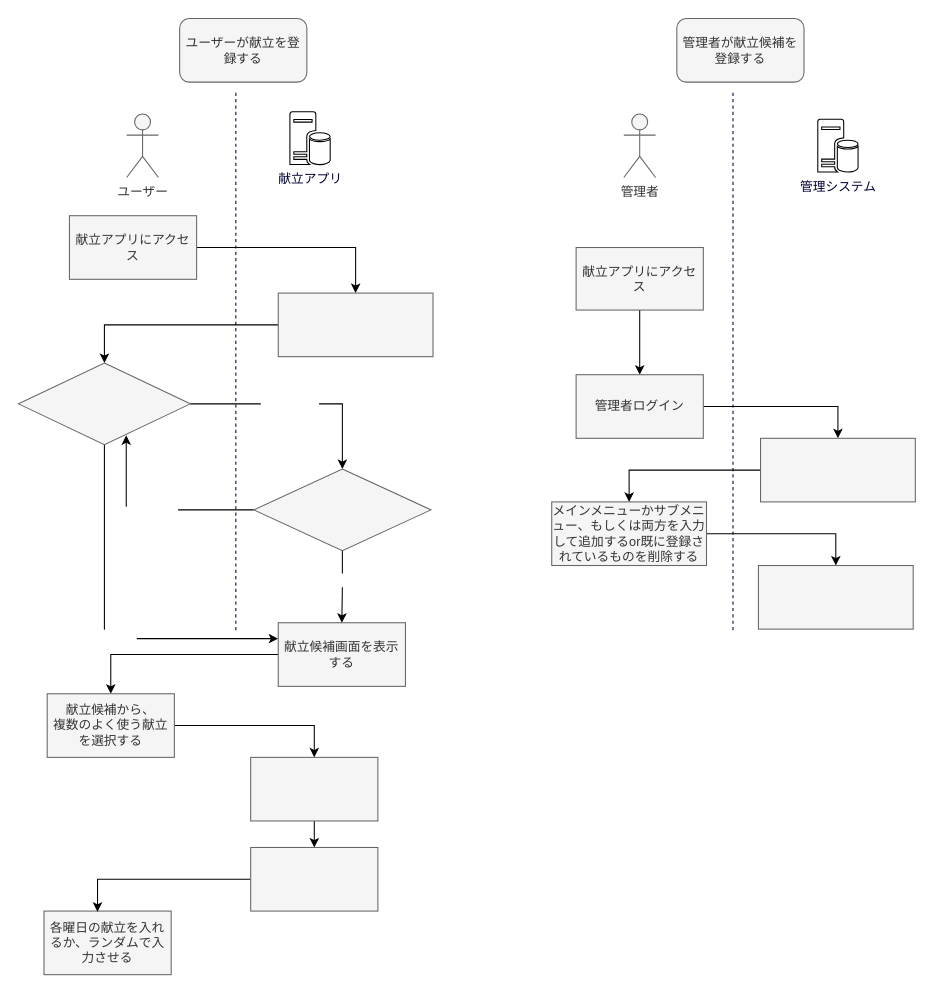
This 934x993 diagram has some shape labels left out. The centre of each missing label's shape, as x and y in pixels:
1週間分の献立表示画面を表示させる: the point at 314,878
サインアップか、サインインを選択する: the point at 103,403
サインアップするか、 サインインするかの選択画面を表示する: the point at 355,324
ログイン情報を検証する: the point at 342,509
献立候補で選択した献立情報を全て取得する: the point at 314,788
献立候補データベースにデータを全て登録する: the point at 835,596
管理者TOPページを表示する: the point at 837,469
